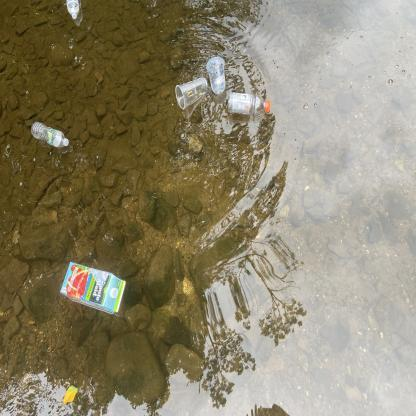trash: (55, 258, 130, 316), (222, 86, 271, 119), (26, 118, 72, 152), (172, 74, 212, 113), (206, 48, 227, 100), (63, 0, 84, 24)
